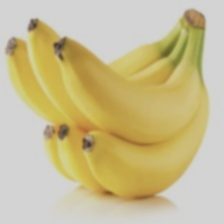banana: (28, 0, 164, 198)
